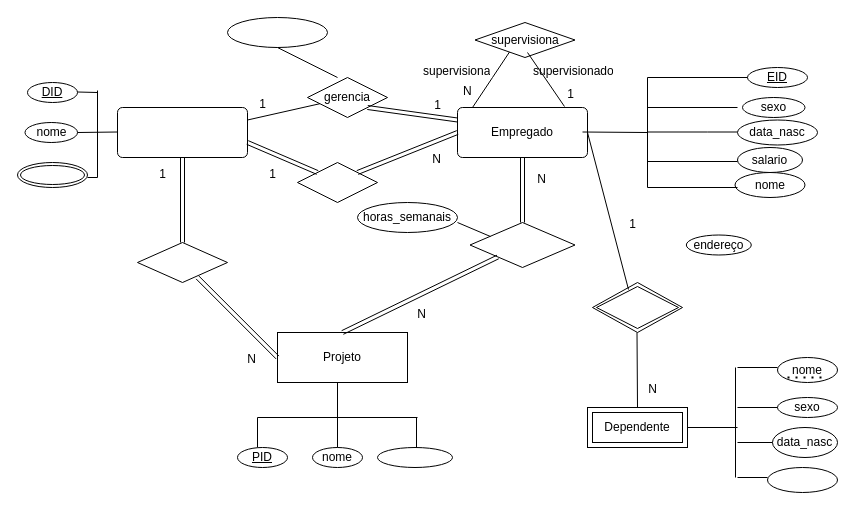
The diagram is 855 pixels wide and 518 high, and some of its shapes have lost their labels. The shapes that lost their labels are listed below. From the top down, each one's centre as x and y in pixels, then its label:
the point at 277,32: data_designação
the point at 182,132: Departamento
the point at 52,175: locais
the point at 337,182: vincullado
the point at 182,262: controla
the point at 522,245: participa
the point at 637,307: dependencia
the point at 414,457: localização
the point at 802,479: parentesco
